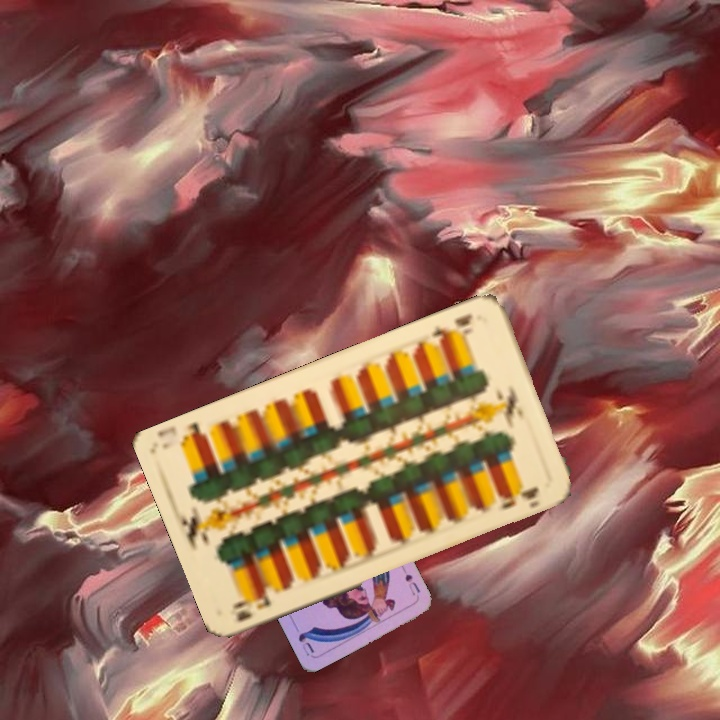E10: (427, 310, 476, 347), (228, 588, 273, 624)
SU: (398, 563, 423, 601)
